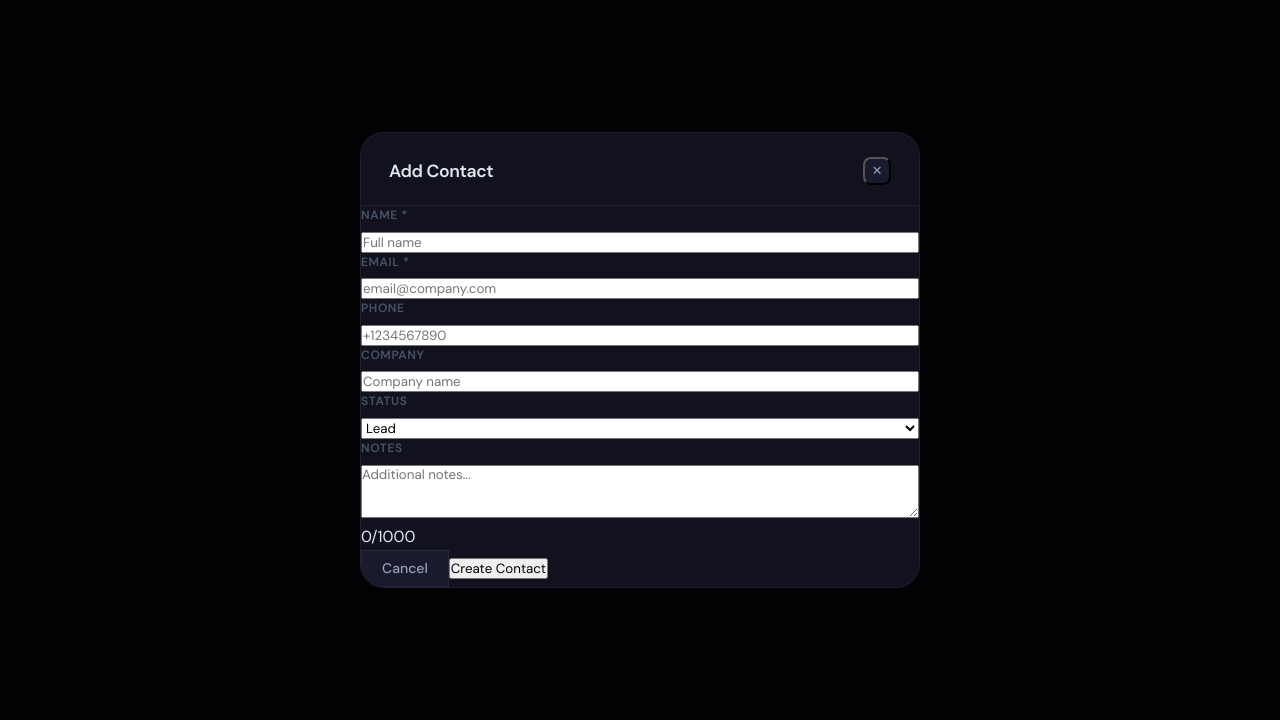
Test: ContactModal Component › shows validation error when email is empty
Type "Jane Doe" into the field with placeholder "Full name" at [640, 242], box 361,232 -> 919,253
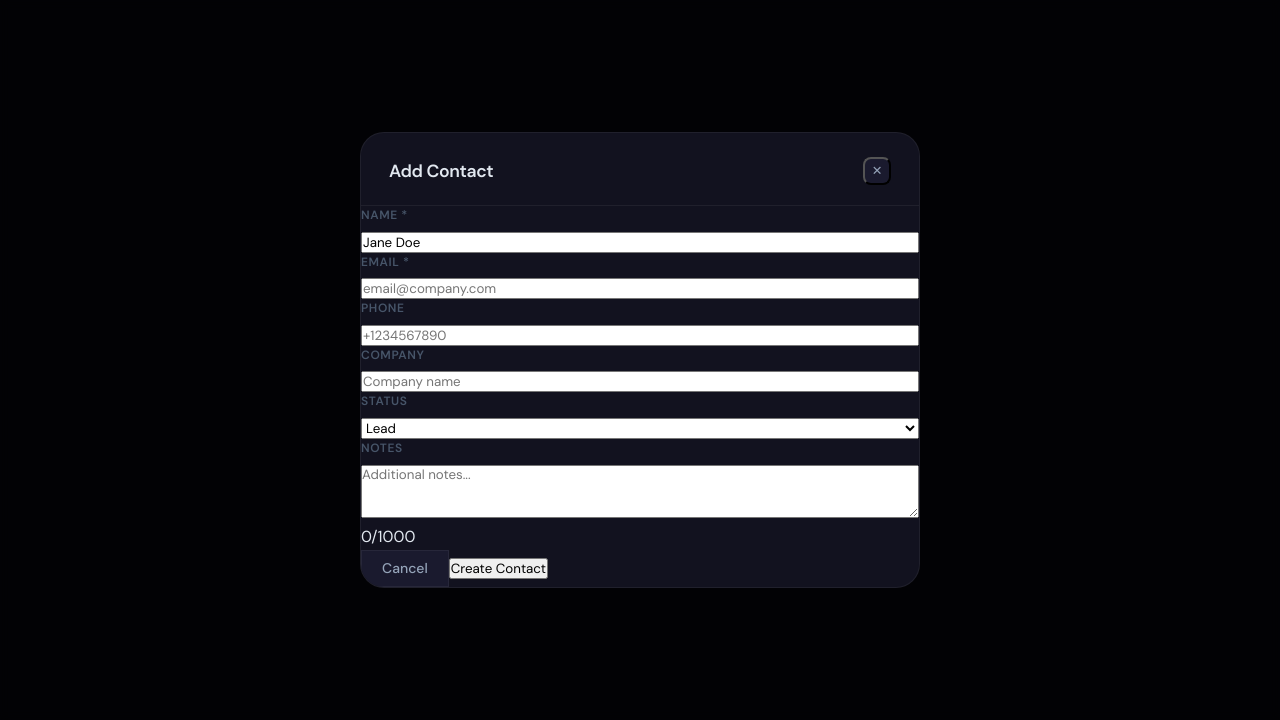
Click the button "Create Contact" at [498, 569], box 449,558 -> 548,579
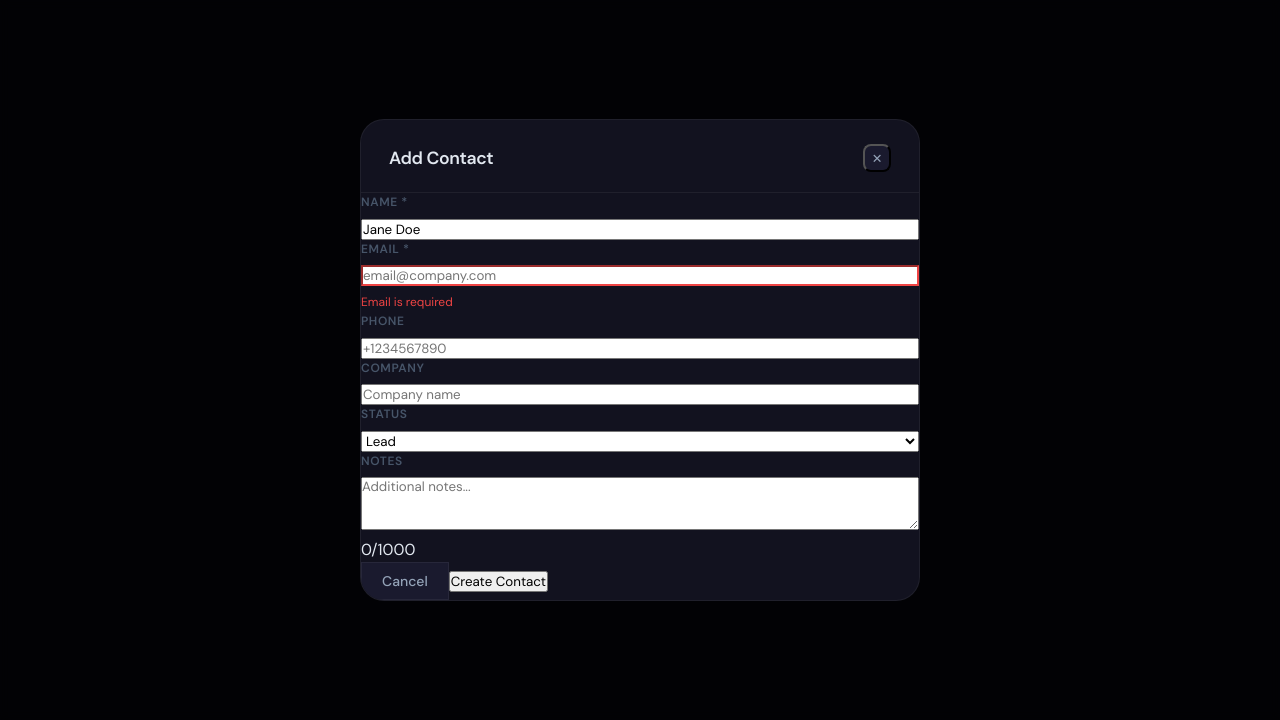
Expected: the text "Email is required" is shown, 361,294 -> 453,310
